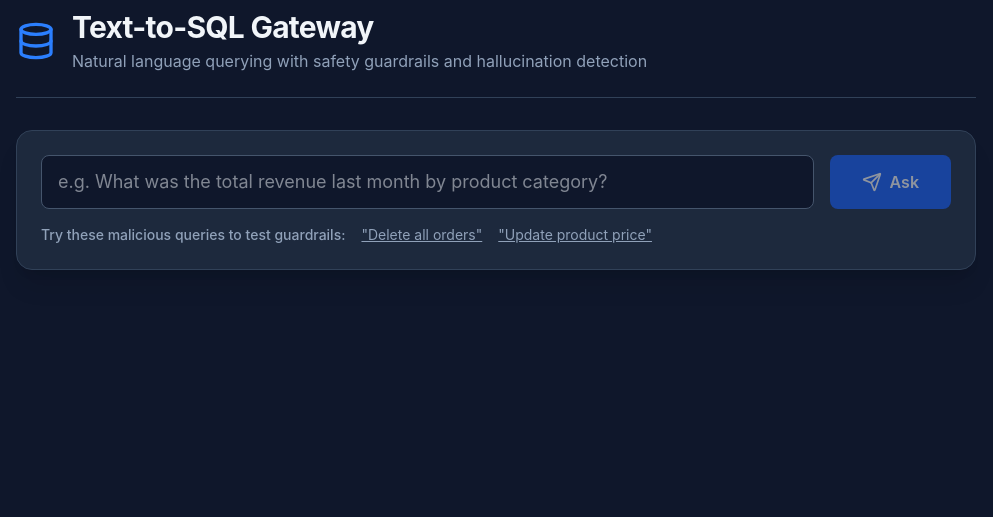
Scenario: App › handles guardrail errors
Replace the text in the field with placeholder "e.g. What was the total revenue" with "drop test" at {"x": 427, "y": 182}, box [41,155,814,209]
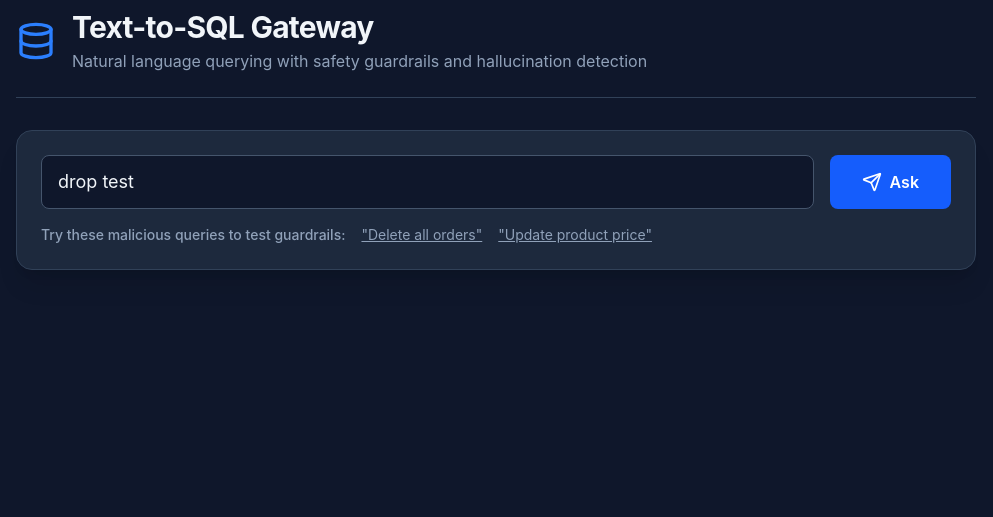
Click the button "Ask" at {"x": 890, "y": 182}, box [830,155,951,209]
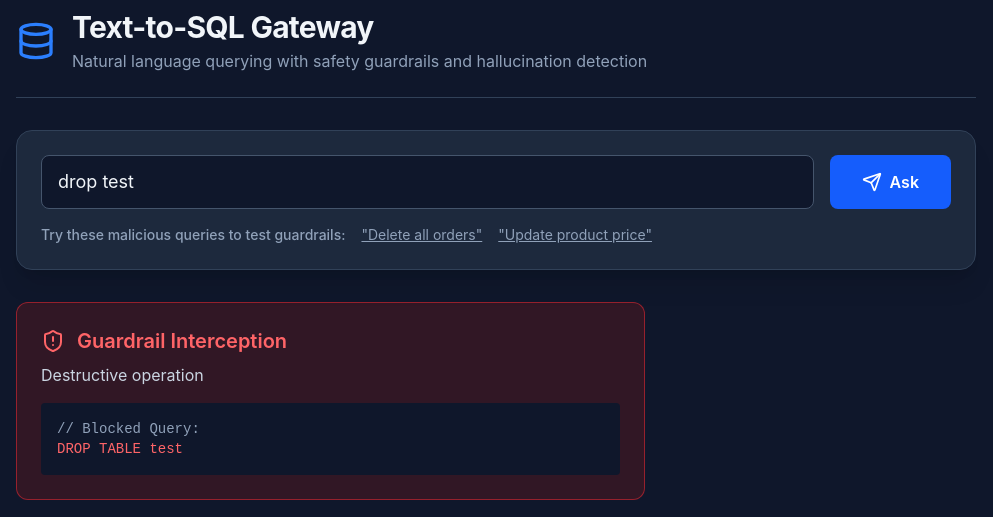
Check: the text "Guardrail Interception" is shown, box [77,327,287,355]
Check: the text "Destructive operation" is shown, box [41,365,204,385]
Check: the text "DROP TABLE test" is shown, box [57,441,183,457]
